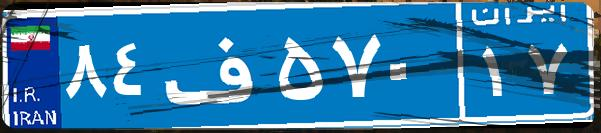0: (385, 28, 445, 110)
1: (475, 38, 525, 113)
4: (110, 28, 158, 105)
5: (273, 28, 330, 110)
7: (330, 28, 385, 110), (525, 38, 570, 115)
8: (57, 26, 110, 107)
ف: (158, 15, 273, 115)
